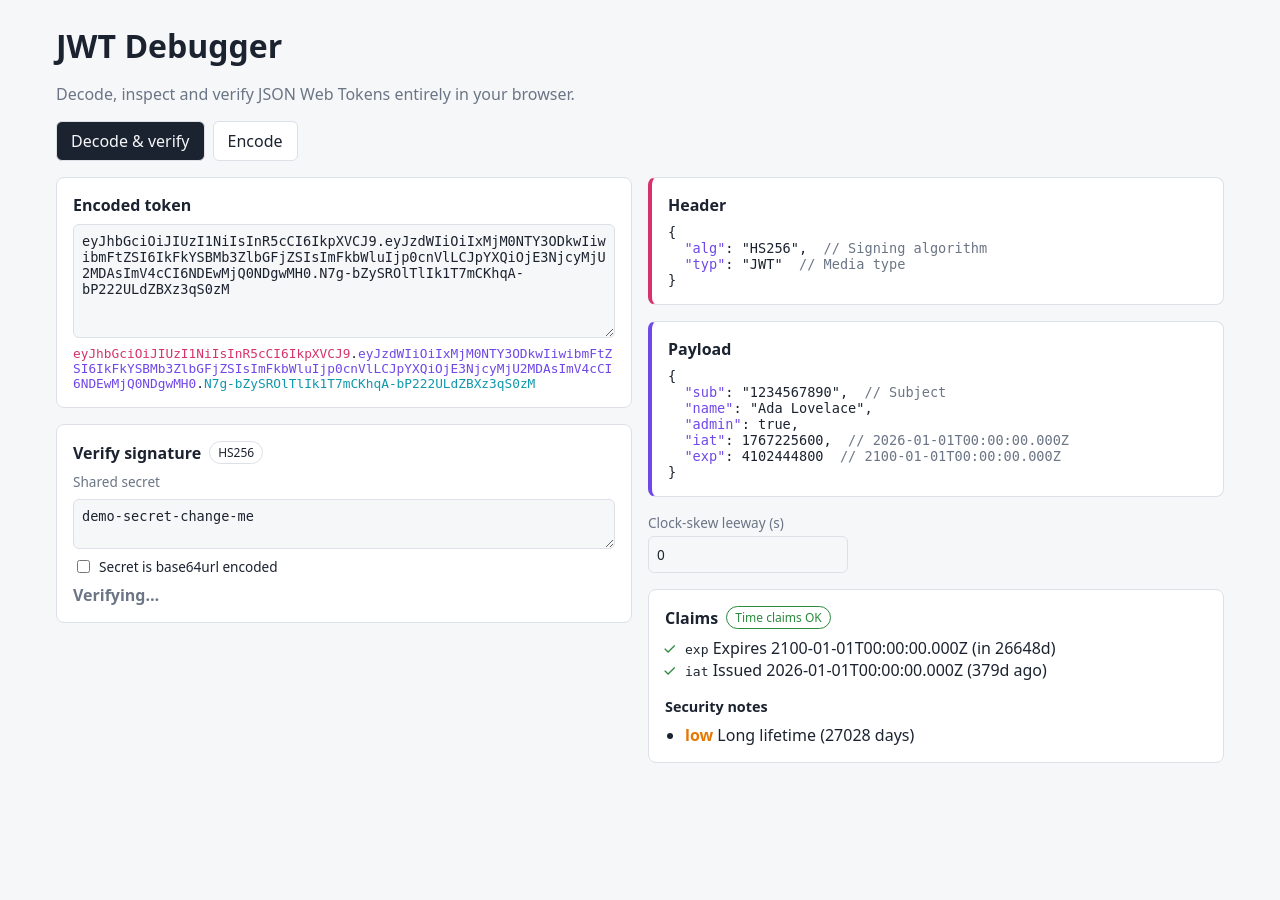
Scenario: <App /> › shows an invalid signature when the secret changes
Step 1. Replace the text in the text box labelled "Shared secret" with "nope" → [344, 524], box [73,499,615,549]
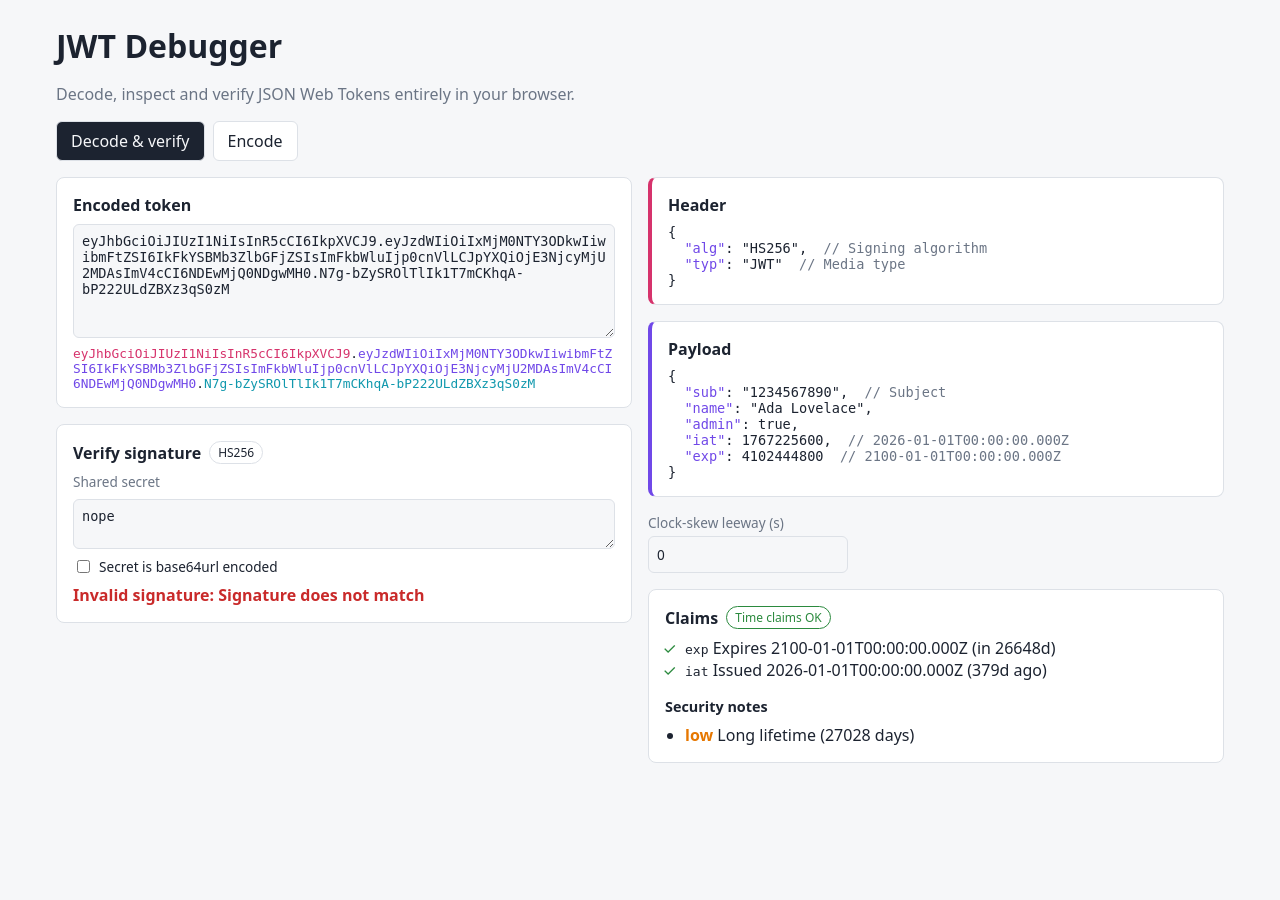
Check: the message shows "Invalid signature", box [73,584,210,606]
